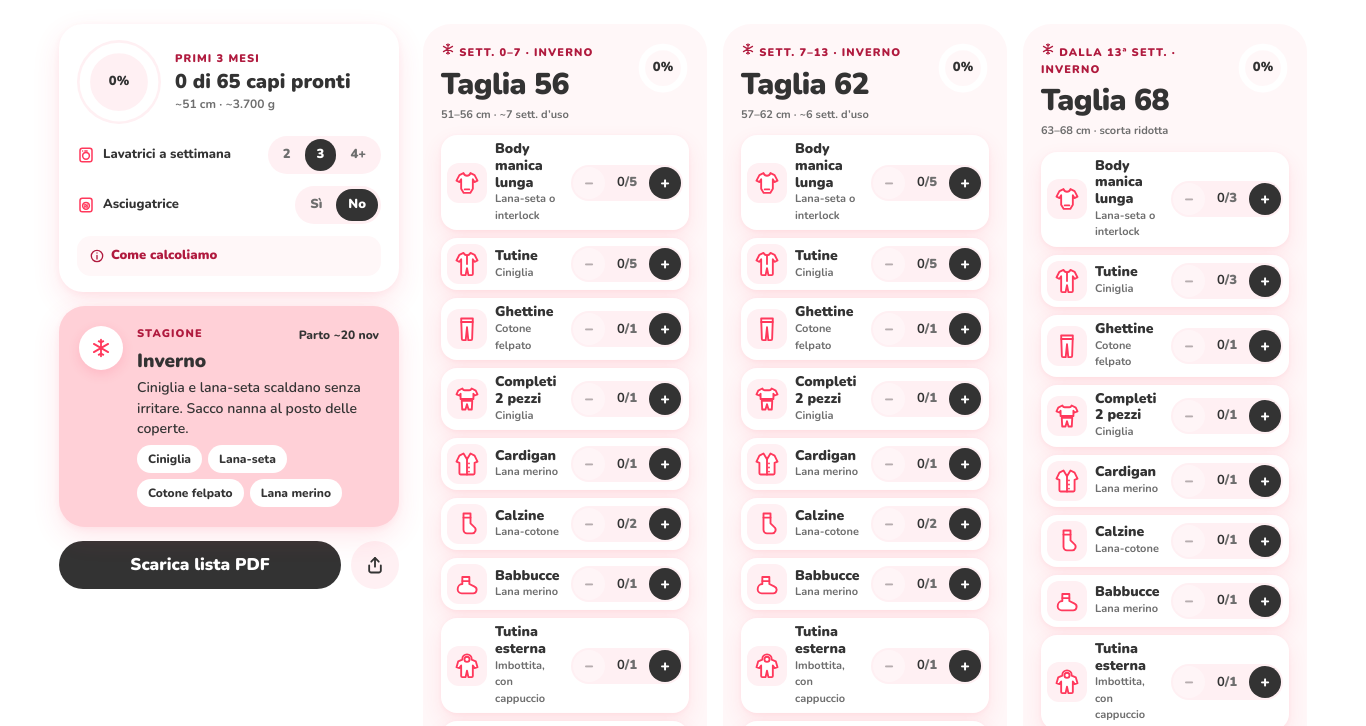
Il tuo bebe › Corredino: con + si segna un capo già preso
Check: the 1st text "0" is shown, box [617, 173, 625, 191]
Click the button named "in più" at (665, 183), box [649, 167, 681, 199]
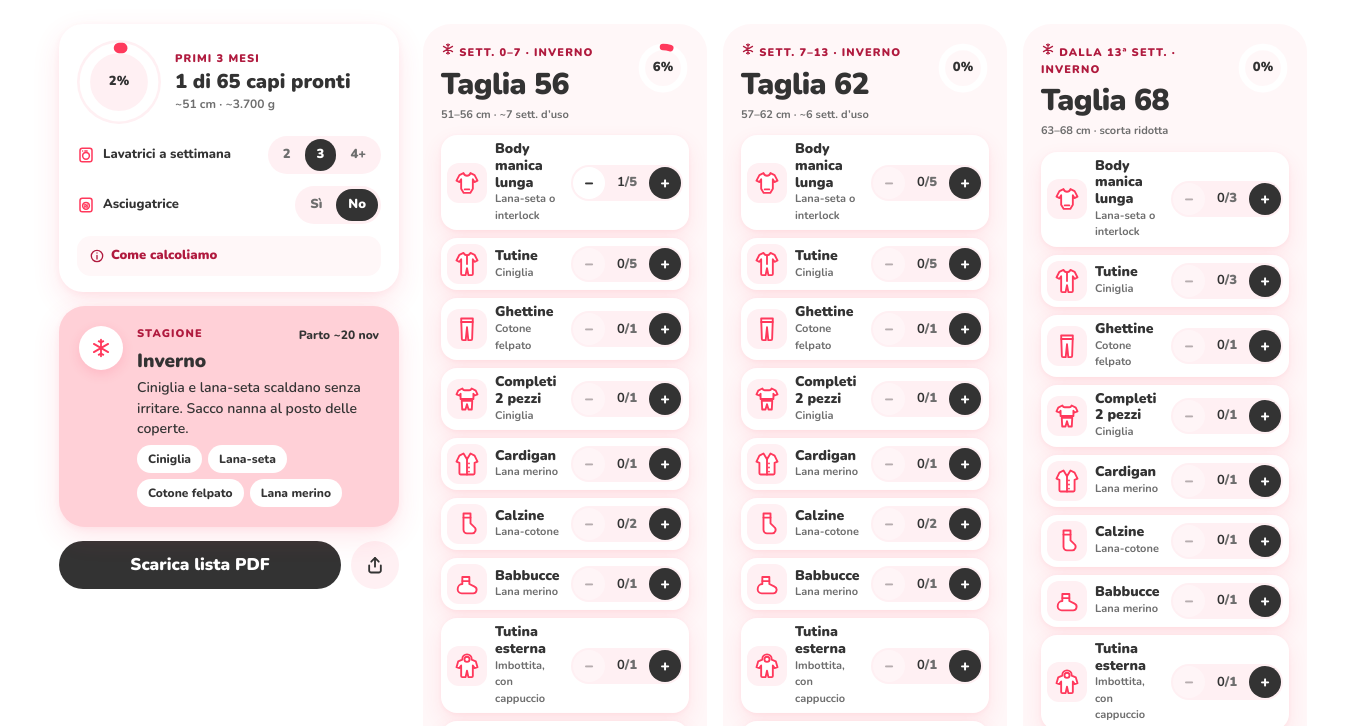
Check: the text "1" is shown, box [617, 173, 625, 191]
